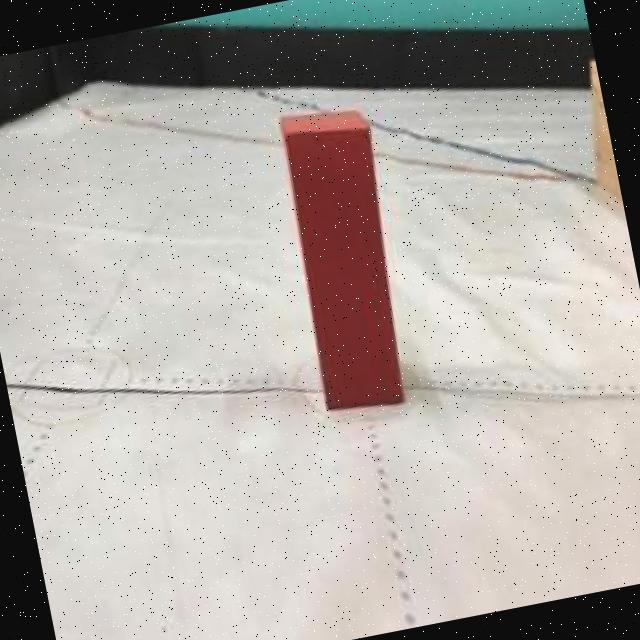redbox: (273, 96, 422, 418)
